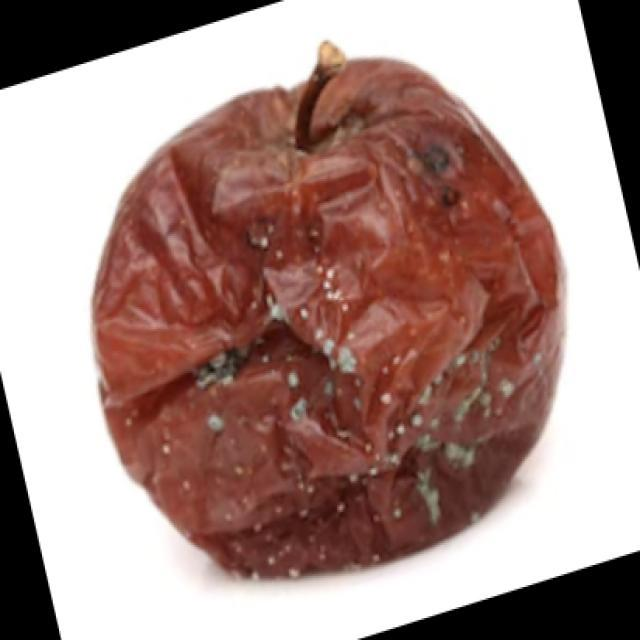Rotten: (102, 62, 558, 598)
